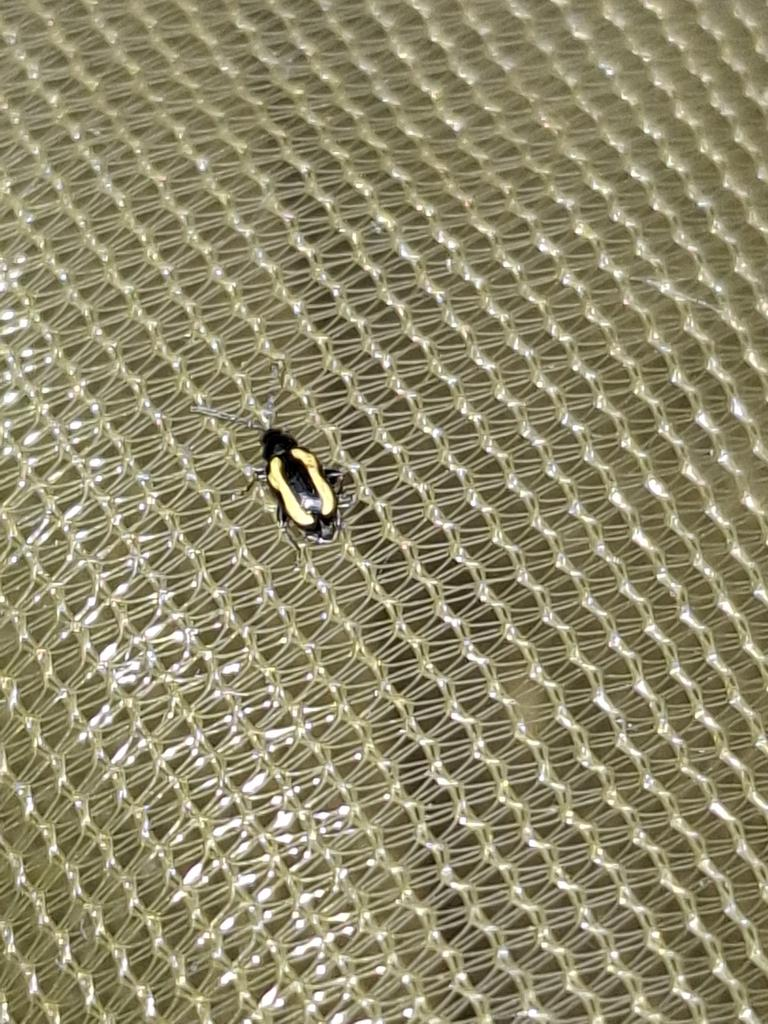flea_beetle: (178, 364, 387, 576)
